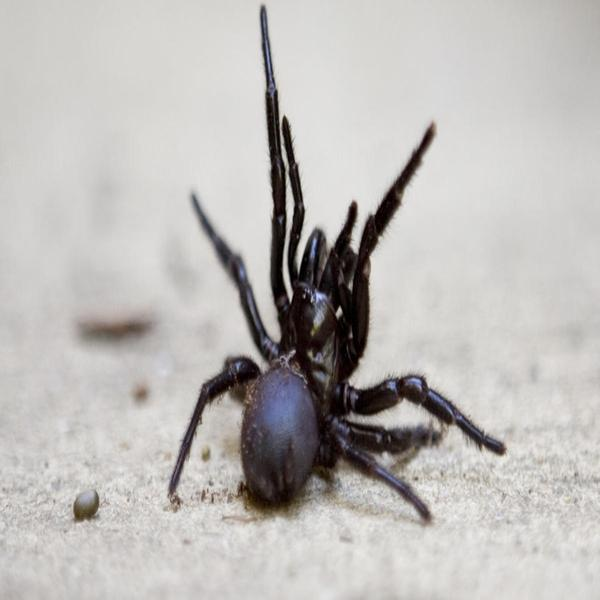Sydney_Funnel_Web_Spider: (169, 7, 506, 523)
